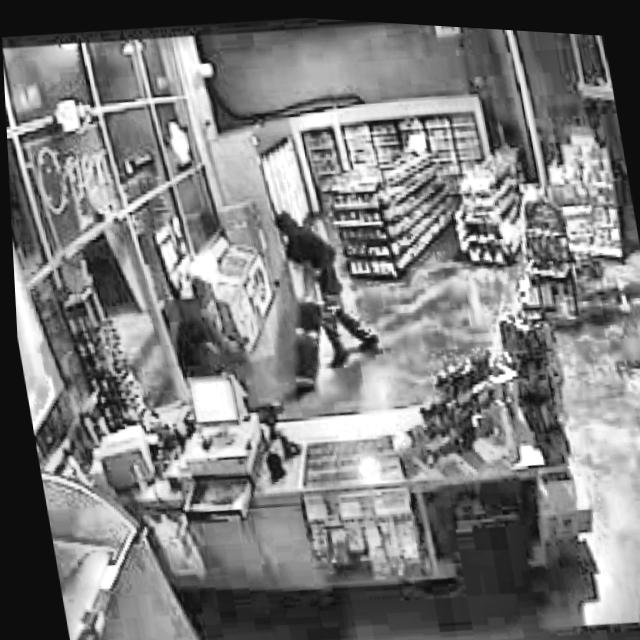burglary: (146, 188, 385, 411)
